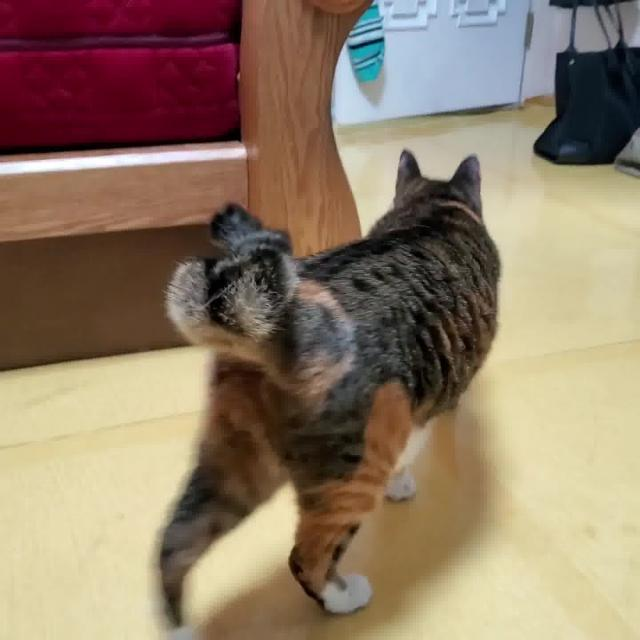cat: (144, 138, 508, 640)
